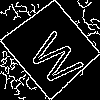W: (26, 23, 92, 89)
